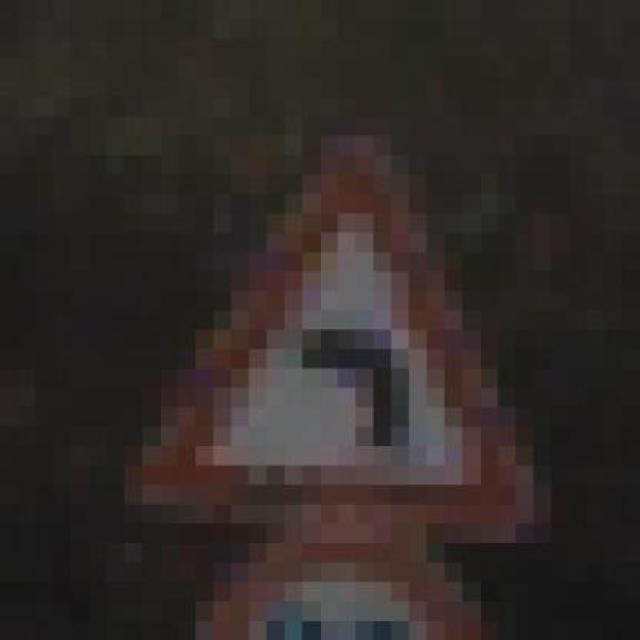Dangerous Left Curve Ahead: (89, 97, 586, 563)
